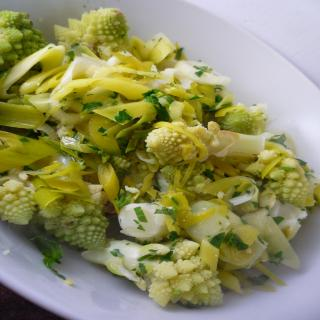Broccoli: (0, 104, 319, 308), (54, 8, 134, 56), (2, 8, 48, 66)
Salad: (0, 8, 320, 308)
